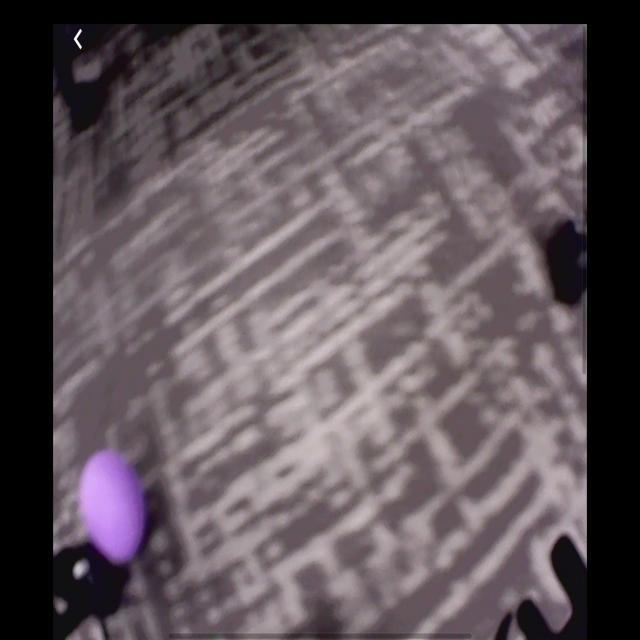ball: (80, 450, 146, 562)
